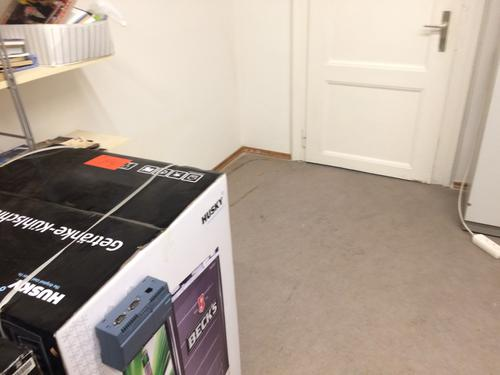iot2000: (94, 274, 172, 372)
